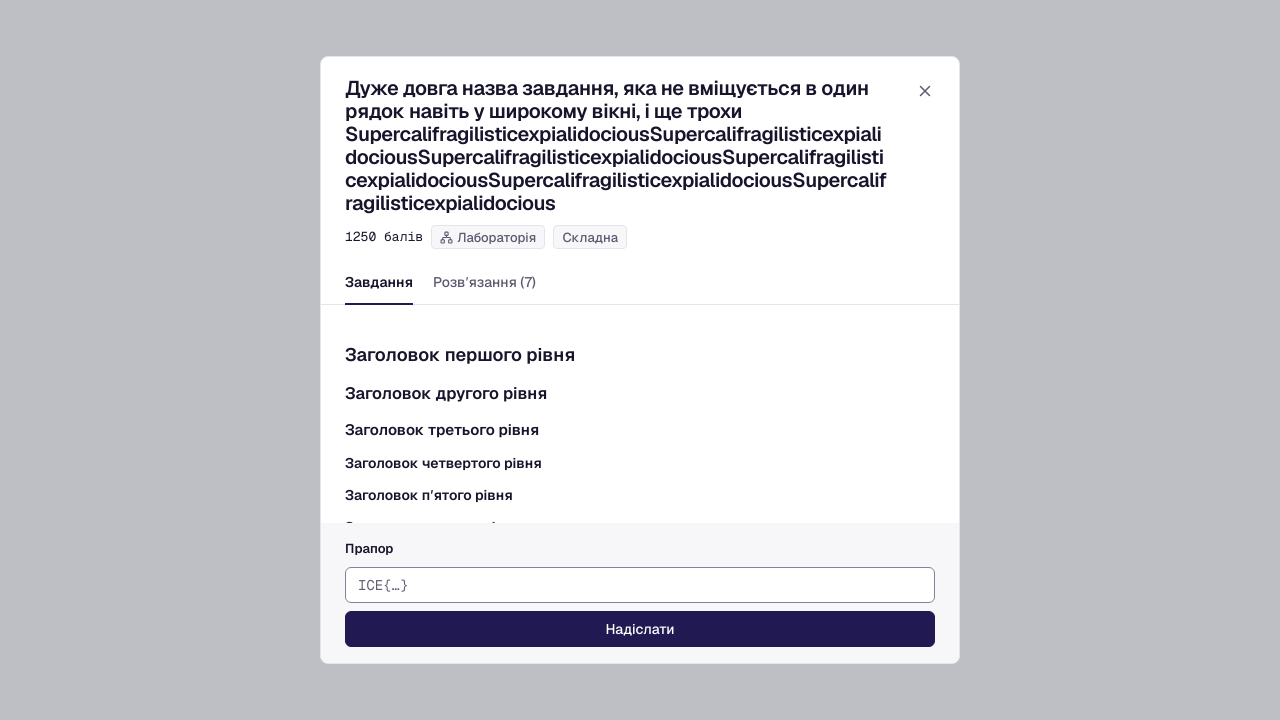
Test case: solves tab keeps the task flag form out of the visible panel
Expected: the field labelled "Прапор" is shown, [345,567,935,603]
Click the tab "Розвʼязання (7)": [484, 283] box [433,261,536,305]
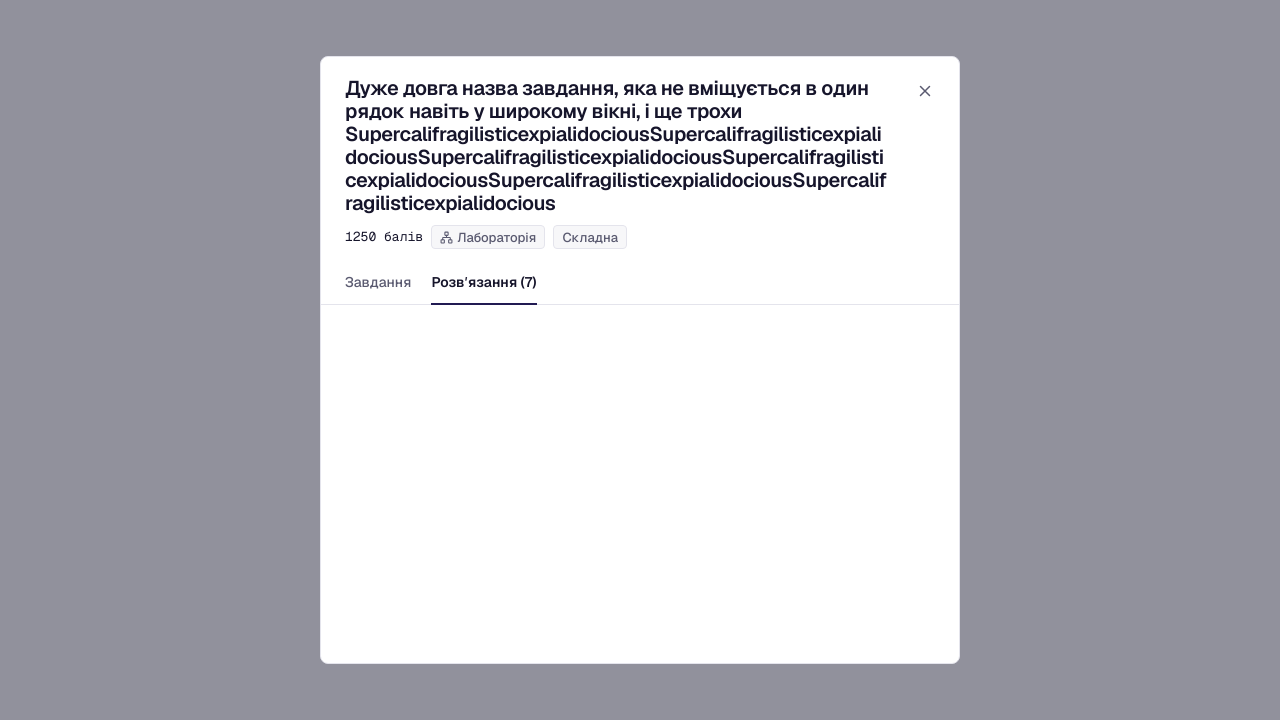
Expected: the label "Прапор" is gone
